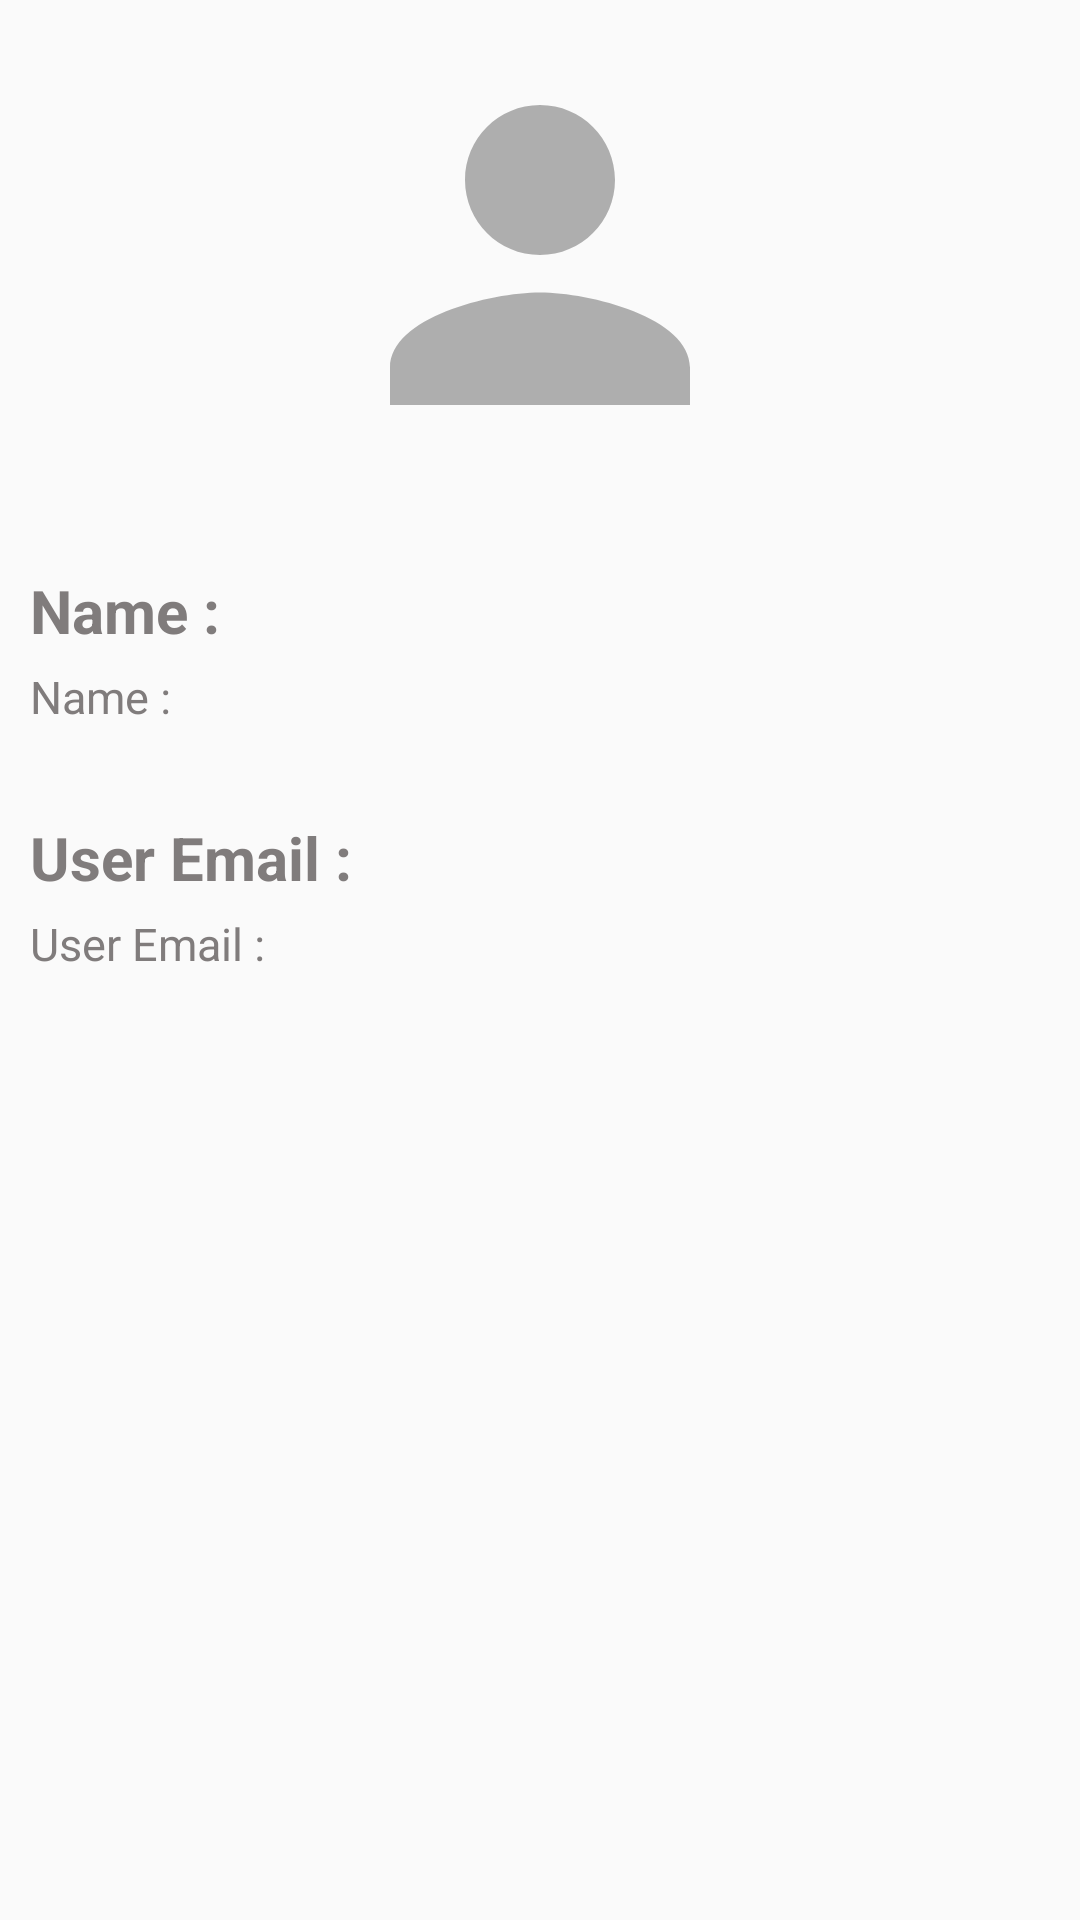

Screen size 1080px×1920px. Icon name, then its center in pixels as (x=x, y=y):
person: (x=540, y=255)
